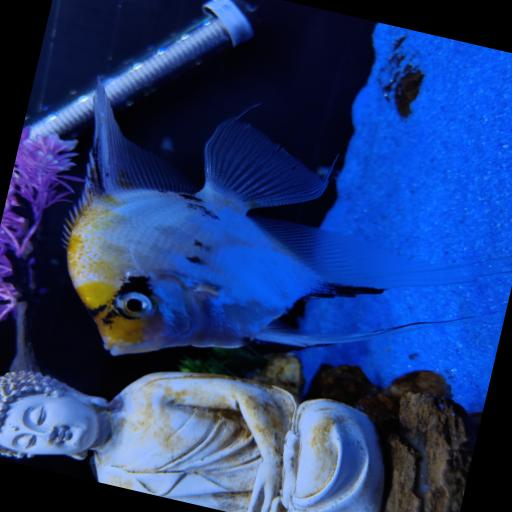Fish: (66, 84, 511, 355)
